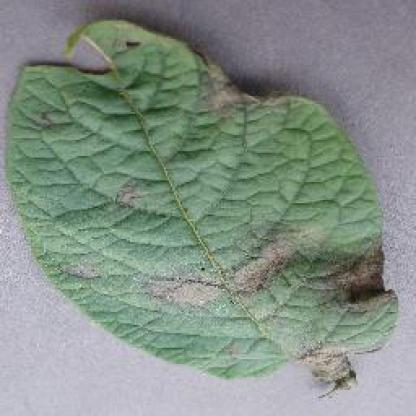bad leaf: (2, 0, 404, 406)
